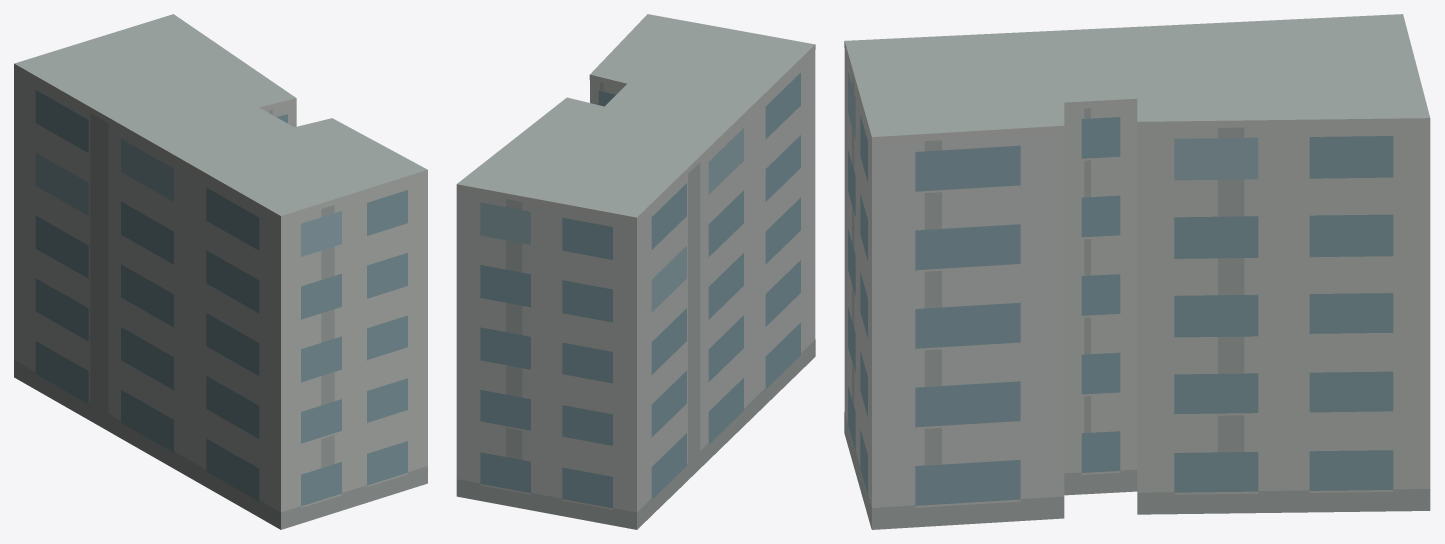
The model's file is survey-upis-32569651.glb.
3 renders of one model, left to right at view 1: azimuth 30°, elevation 25°; view 2: azimuth 150°, elevation 25°; view 3: azimuth 270°, elevation 25°, orthographic. The views are drawn at different scales.
Parts seen in each view (by area): view 1: survey-upis-32569651.tmp; view 2: survey-upis-32569651.tmp; view 3: survey-upis-32569651.tmp.
Part boxes in pixels (x1,y1,x2,y2): survey-upis-32569651.tmp: (14,14,427,529); survey-upis-32569651.tmp: (456,14,815,529); survey-upis-32569651.tmp: (844,14,1430,529).
Bounding box in the file's own units: 8.95 × 13.3 × 17.99.
